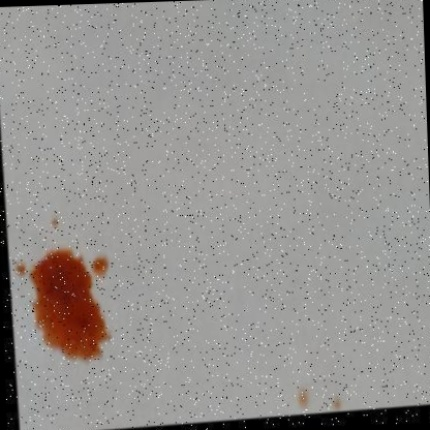kimchi: (12, 242, 121, 368), (295, 384, 314, 413), (50, 216, 74, 237), (334, 396, 351, 414)
